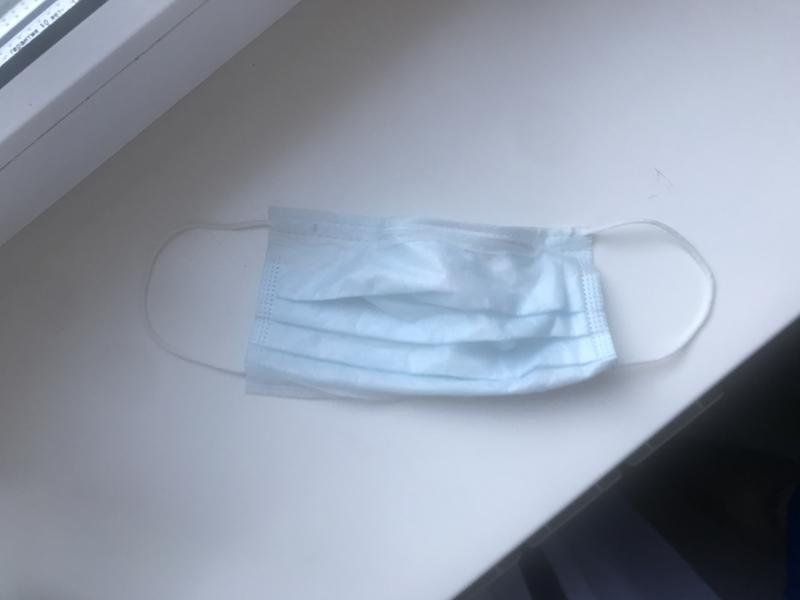medical_mask: (143, 206, 714, 392)
